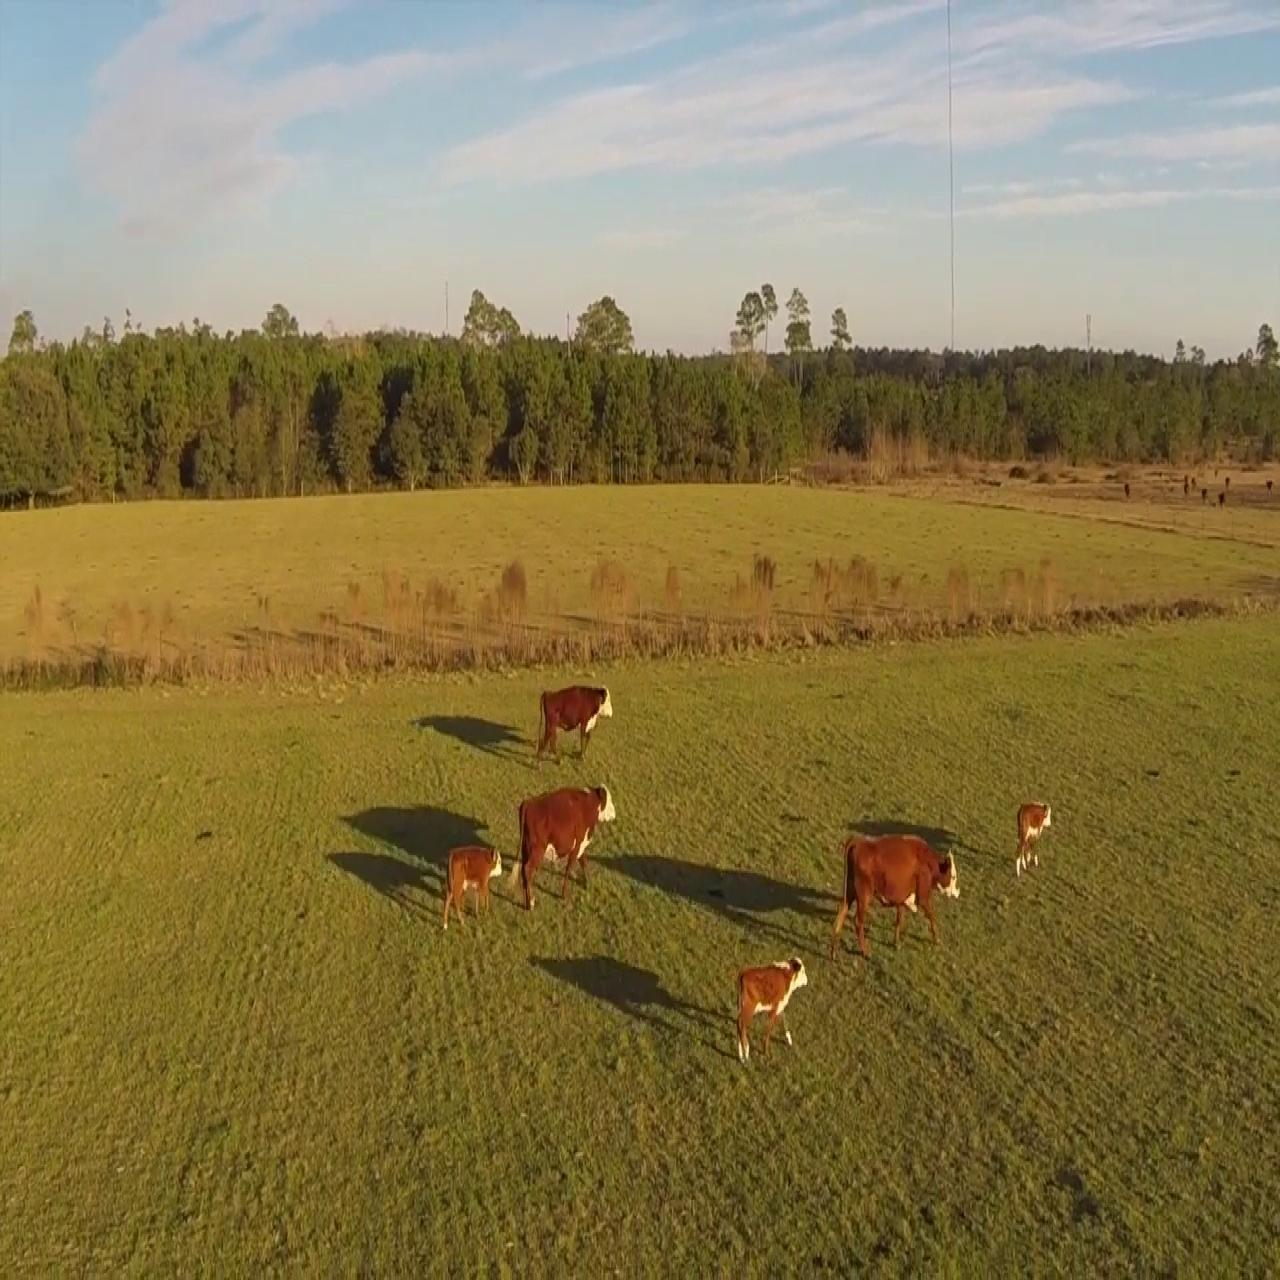cow: (828, 808, 971, 964), (505, 770, 618, 918), (721, 939, 818, 1063), (530, 679, 615, 770), (437, 825, 499, 937), (1014, 777, 1057, 877)
